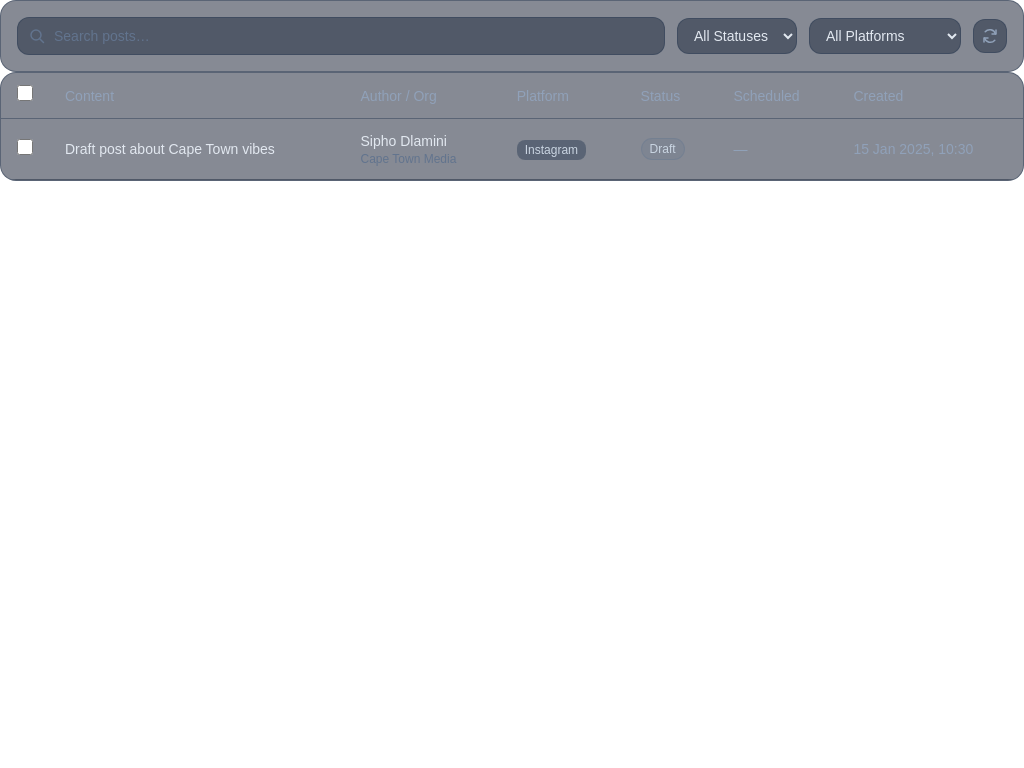
PostModerationTable › Bulk actions › removes posts optimistically after delete
// Select and delete
Click the checkbox named "Select post by Sipho Dlamini" at [25, 146], box [17,138,33,154]
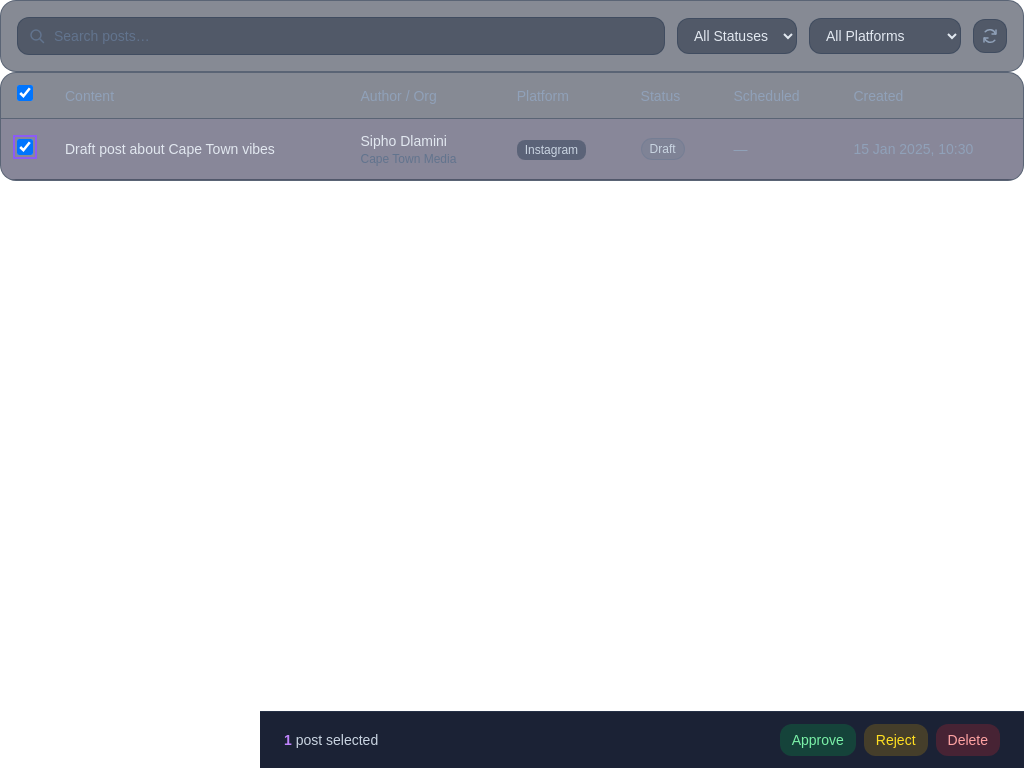
Click the button "Delete" at [968, 740], box [936,724,1000,756]
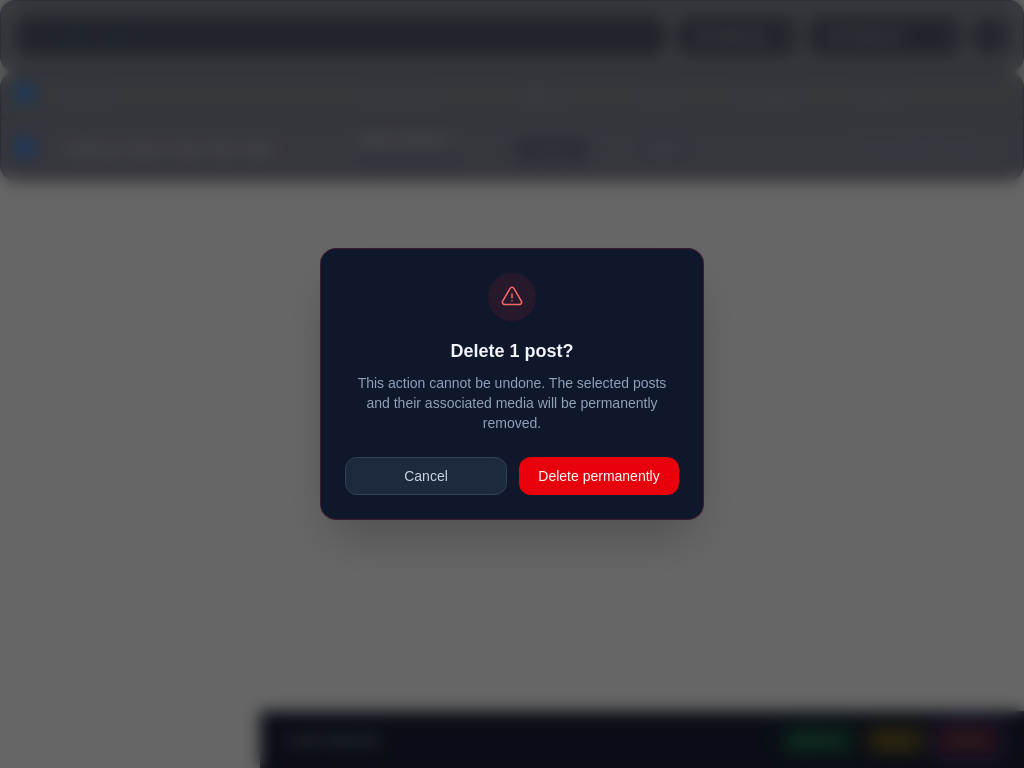
Click the button "Delete permanently" at [599, 476], box [519,457,679,495]
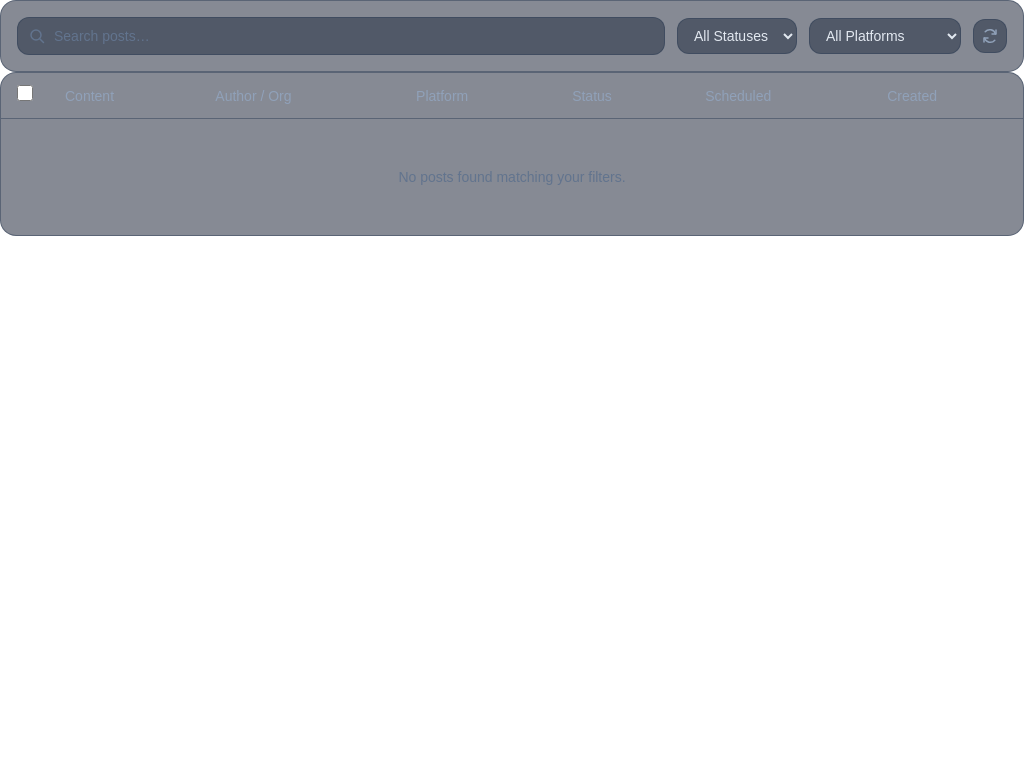
Check: the text "No posts found matching your filters." is shown, box [1,118,1023,235]
